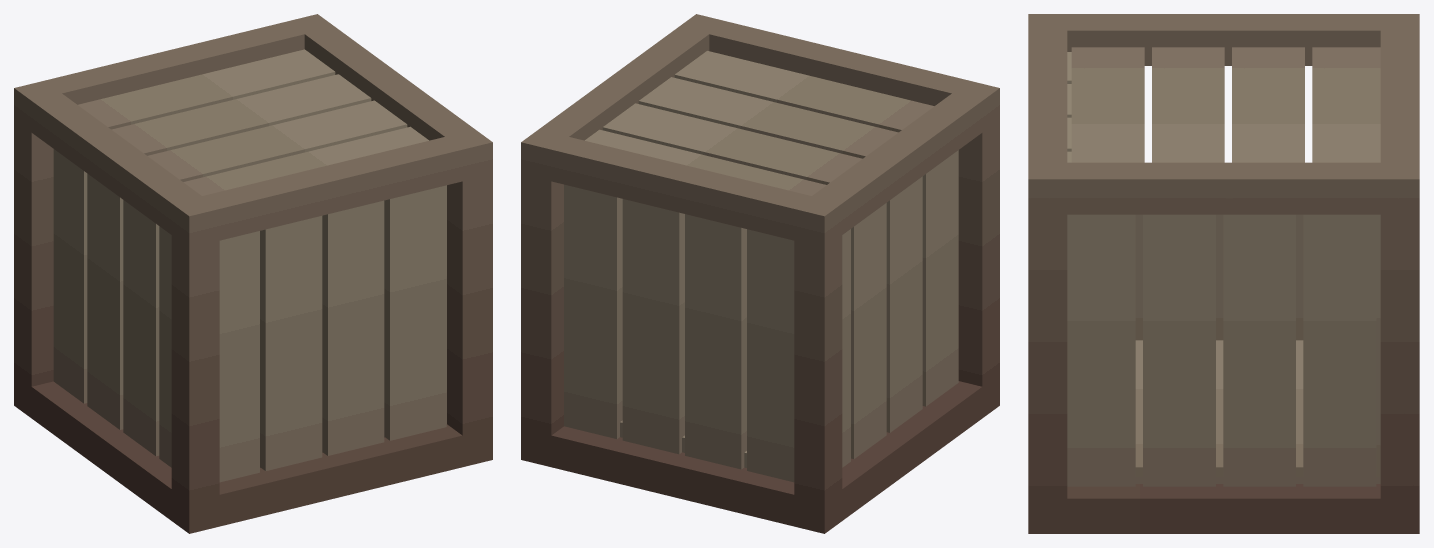
File: DL_Obj_Level3_CrateWood3.fbx
3 views of the same model, side by side, from view 1: azimuth 30°, elevation 25°; view 2: azimuth 150°, elevation 25°; view 3: azimuth 270°, elevation 25° (orthographic). The views are drawn at different scales.
Parts seen in each view (by area): view 1: Level3_CrateWood3; view 2: Level3_CrateWood3; view 3: Level3_CrateWood3.
Part boxes in pixels (box(x1,y1,x2,y2)): Level3_CrateWood3: box(14, 14, 492, 533); Level3_CrateWood3: box(521, 14, 999, 533); Level3_CrateWood3: box(1028, 14, 1419, 533).
Size of the model in its own units: 100 by 100 by 100.
